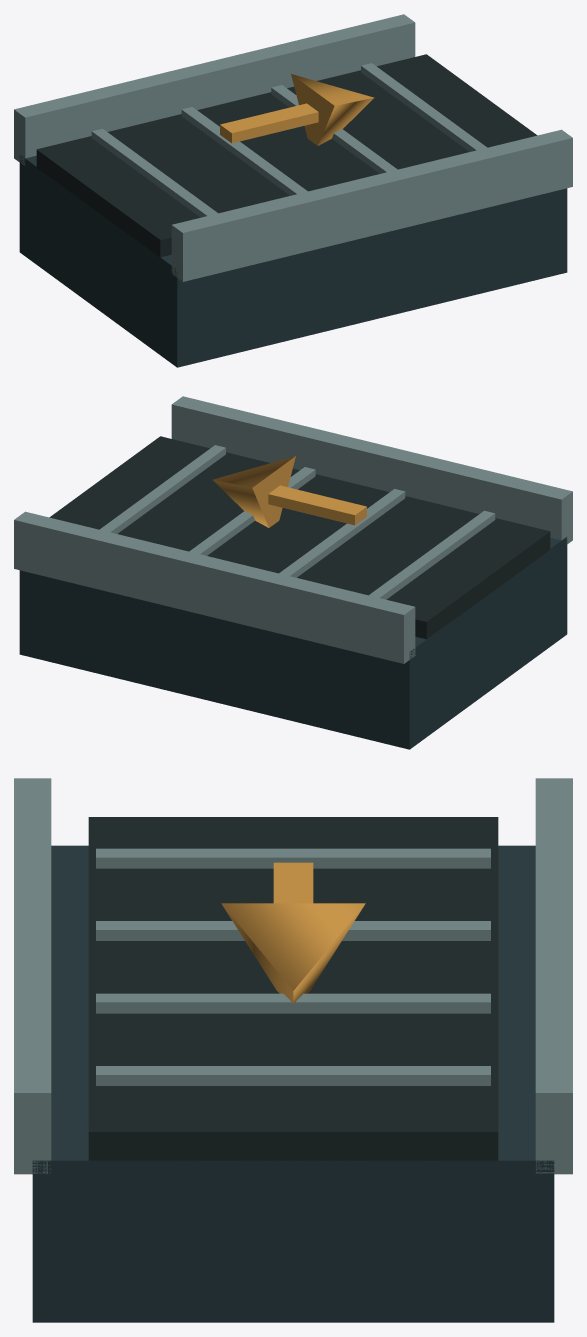
The model's file is belt-4.glb.
3 renders of one model, top to bottom at view 1: azimuth 30°, elevation 25°; view 2: azimuth 150°, elevation 25°; view 3: azimuth 270°, elevation 25°, orthographic. The views are drawn at different scales.
Parts seen in each view (by area): view 1: Batched static factory; view 2: Batched static factory; view 3: Batched static factory.
Boxes of the visible parts, x1,y1,x2,y2 form: Batched static factory: [14, 14, 572, 367]; Batched static factory: [14, 396, 572, 749]; Batched static factory: [14, 778, 572, 1322].
Size of the model in its own units: 1 by 0.4111 by 0.75.
